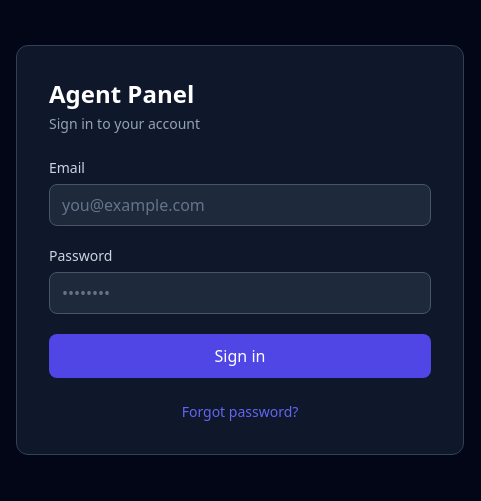
Login › shows error when login fails
The image size is (481, 501).
In the field with placeholder "you@example.com": (240, 205) [49,184,431,226], type "agent@example.com"
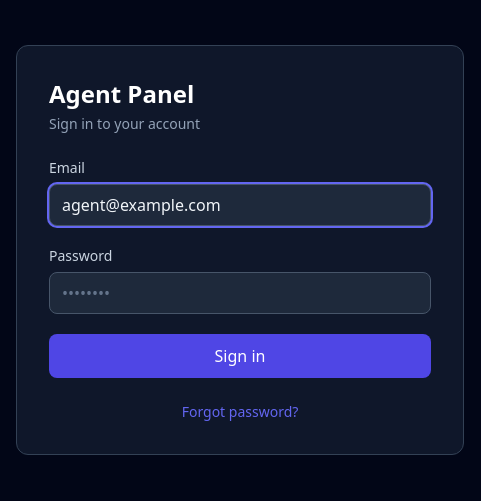
In the password field with placeholder "••••••••": (240, 293) [49,272,431,314], type "wrong"
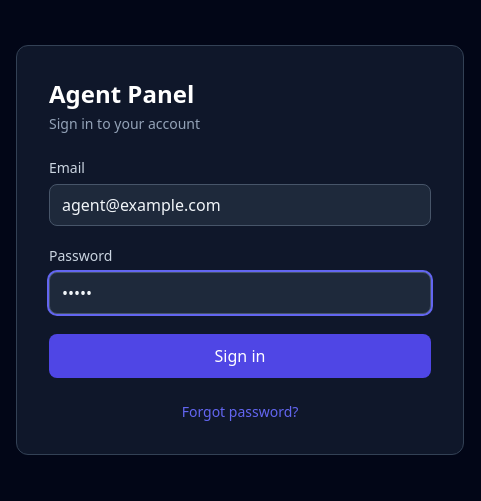
Click the button "Sign in": (240, 356) [49,334,431,378]
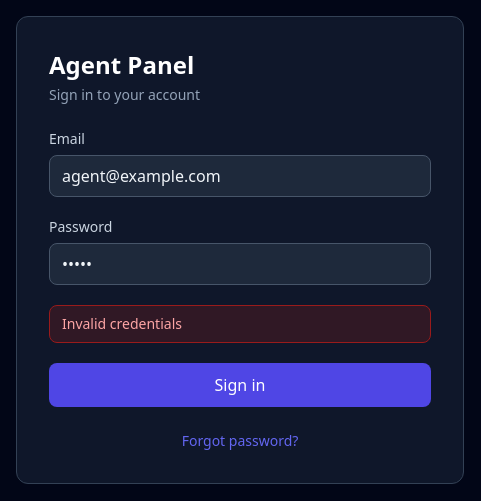
Check: the text "Invalid credentials" is shown, box [49,305,431,343]
